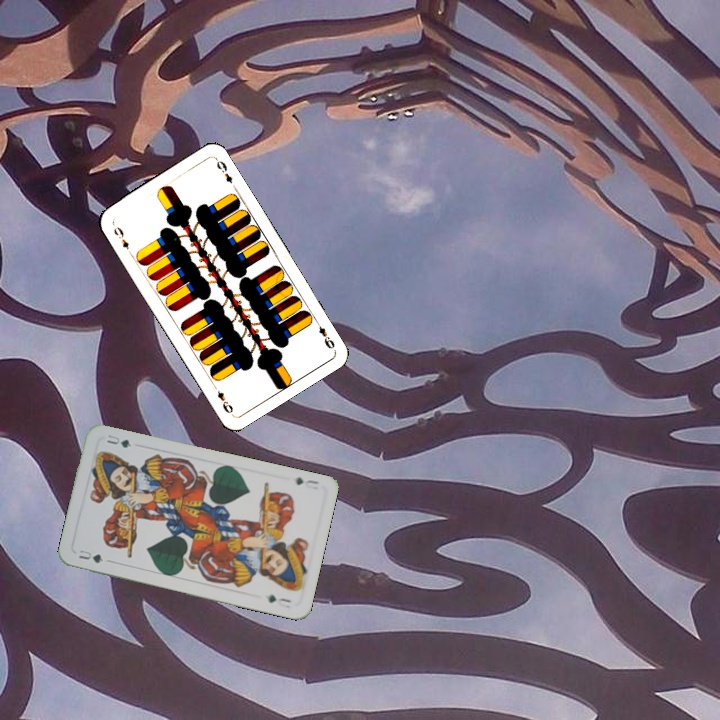E9: (311, 316, 337, 352), (109, 220, 134, 257)
GU: (75, 546, 106, 566), (291, 473, 322, 488)
